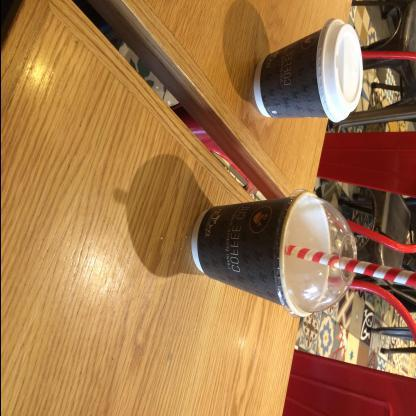kagit: (190, 199, 290, 311)
karton: (190, 191, 330, 318), (253, 31, 335, 123)
plastik: (274, 191, 412, 315), (315, 19, 363, 122)
